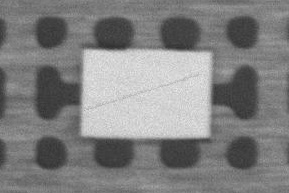DIE_CRACK: (126, 49, 289, 73)
